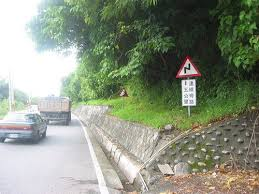Double_bend_right: (175, 54, 202, 78)
